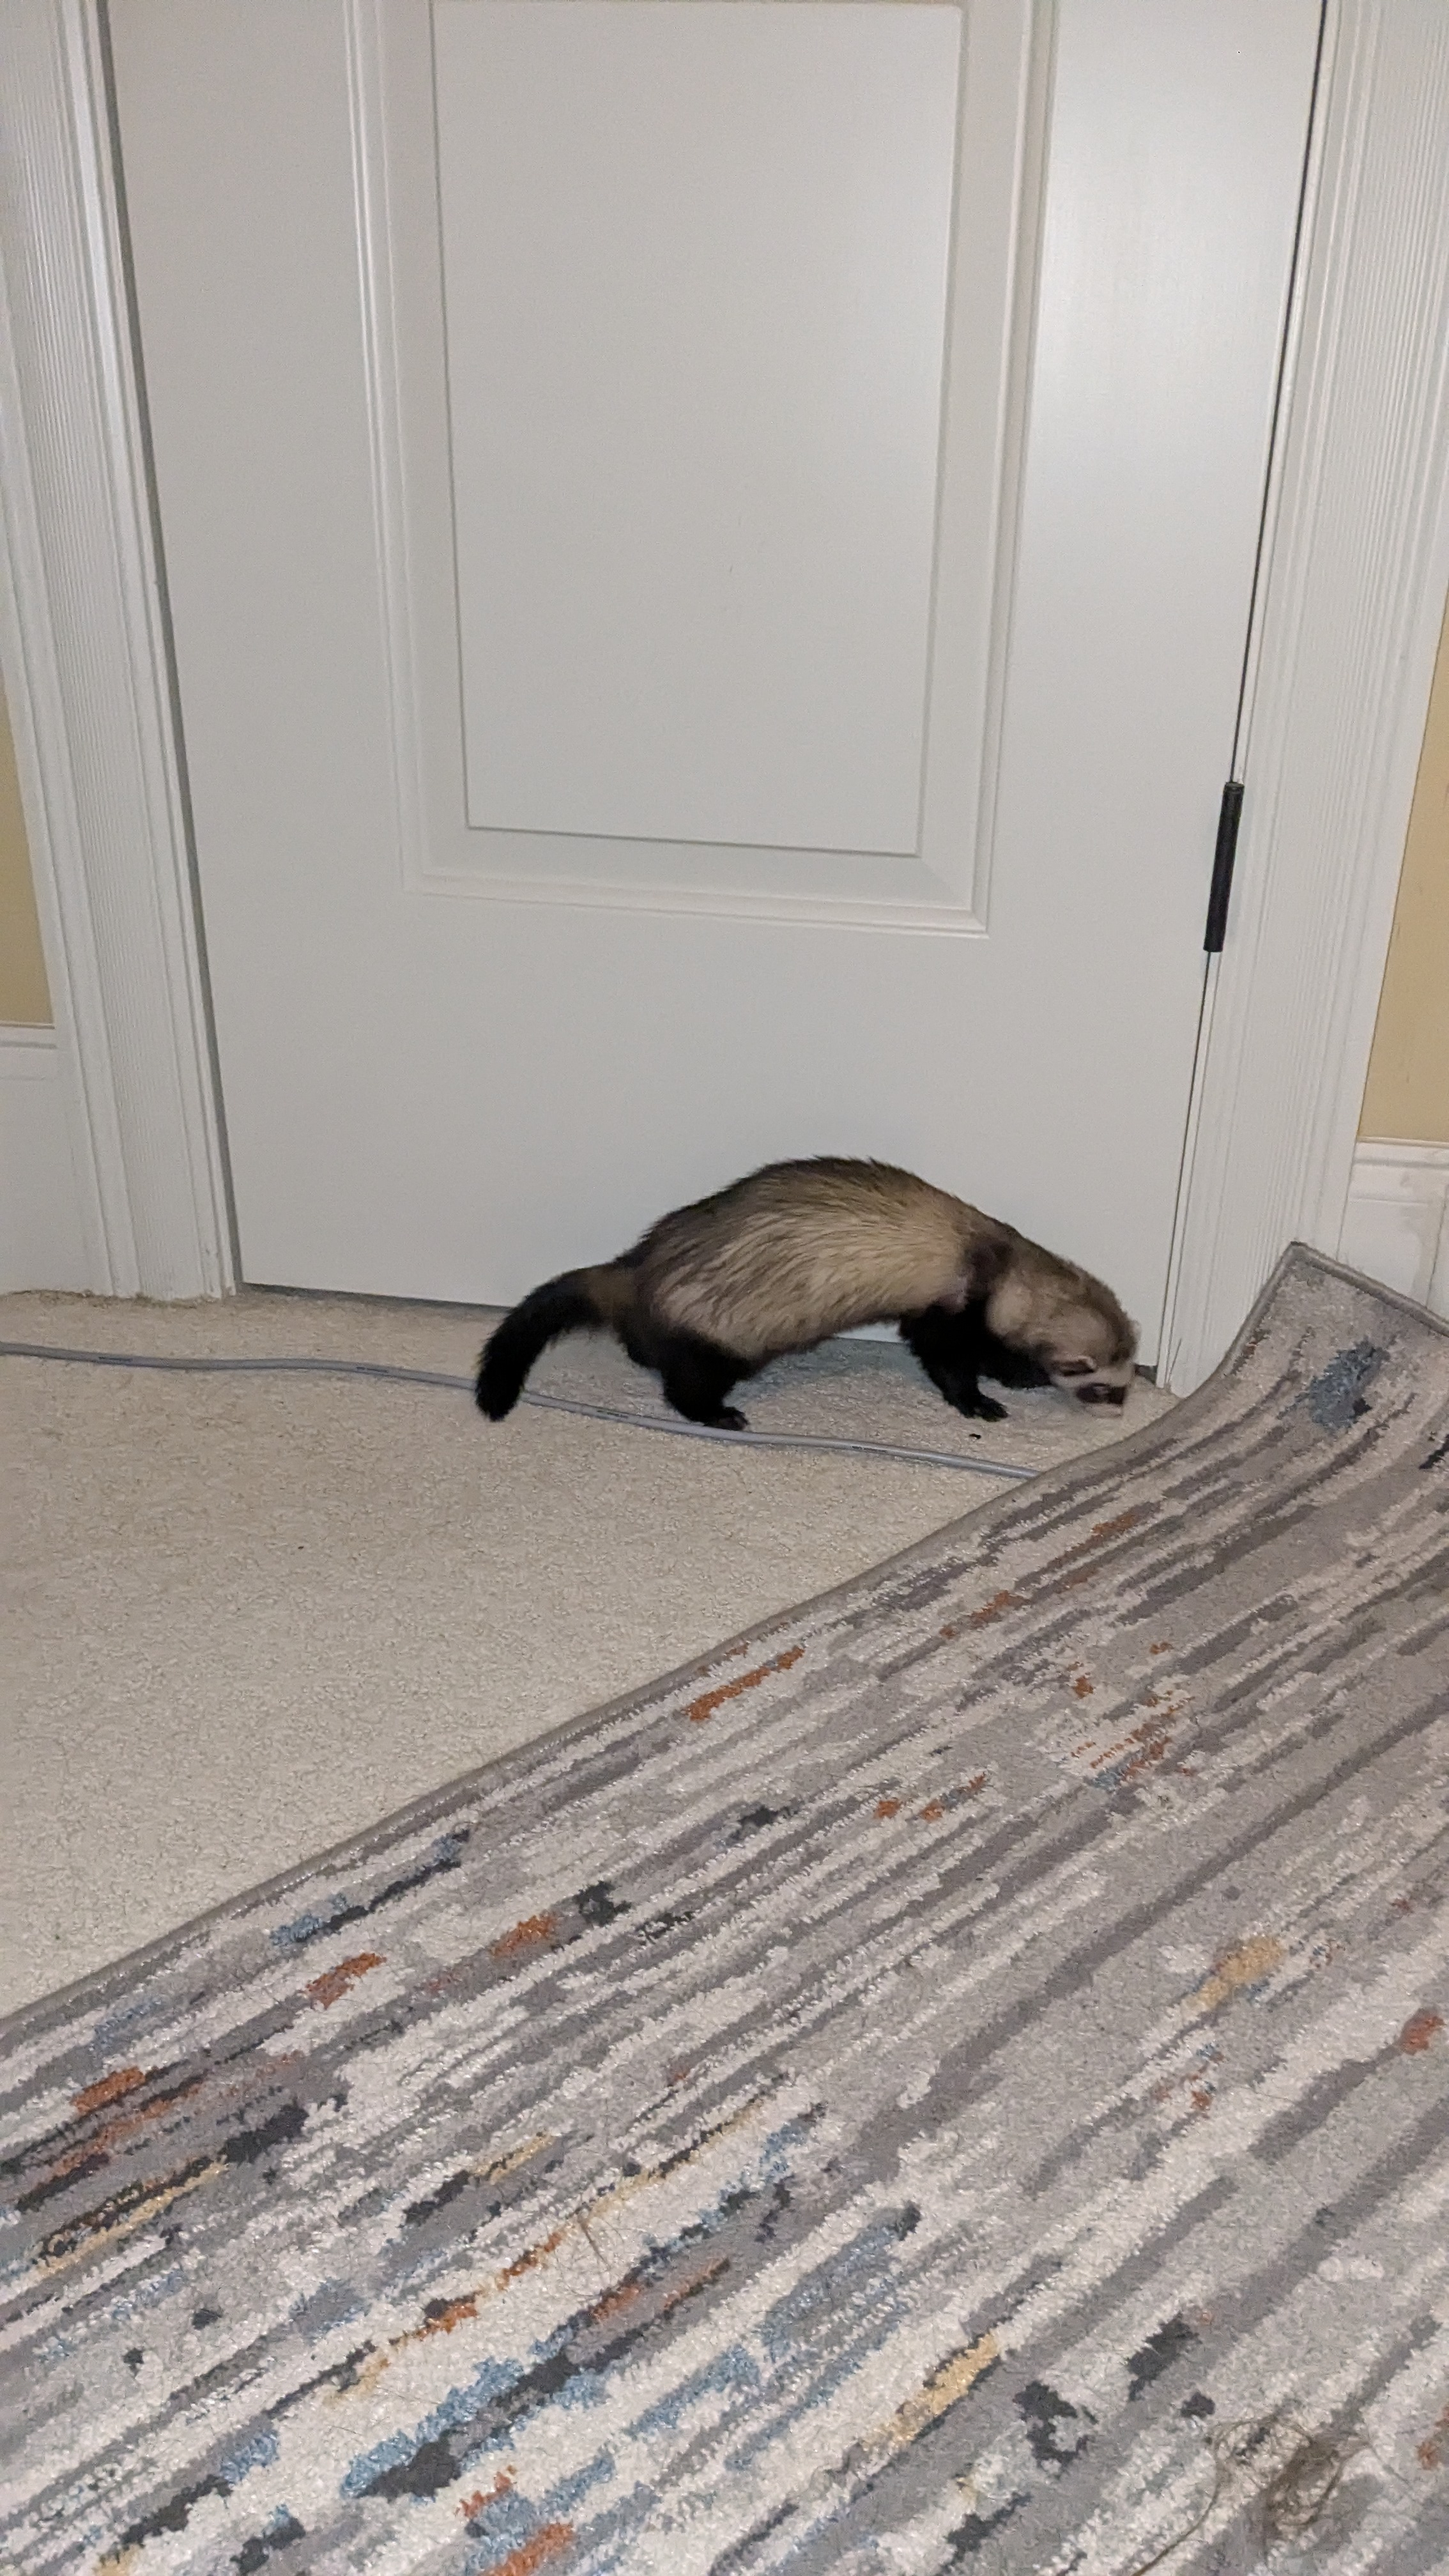Talulah: (465, 1139, 1139, 1430)
